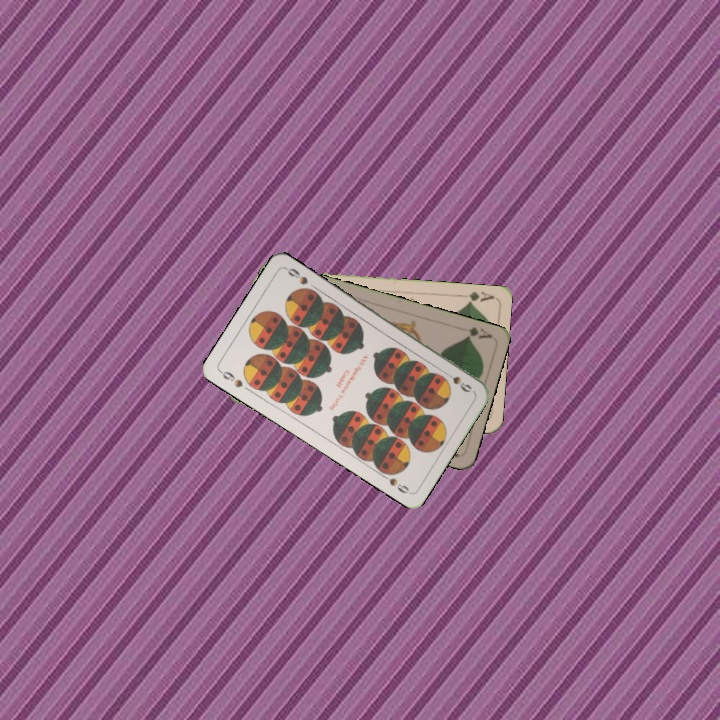GA: (455, 287, 496, 306), (462, 323, 494, 342)
S9: (440, 367, 474, 395), (216, 367, 245, 390)
